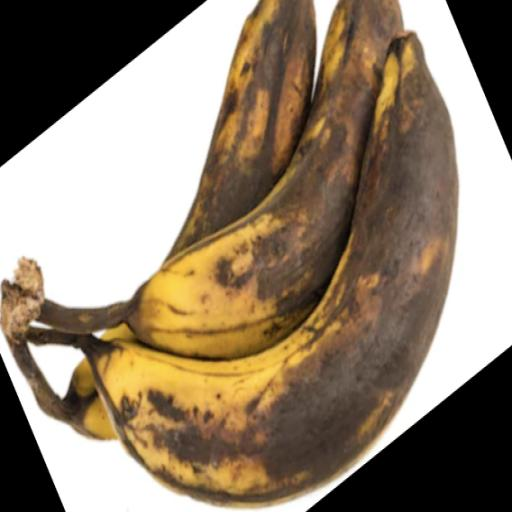banana-overripe: (13, 8, 453, 506)
